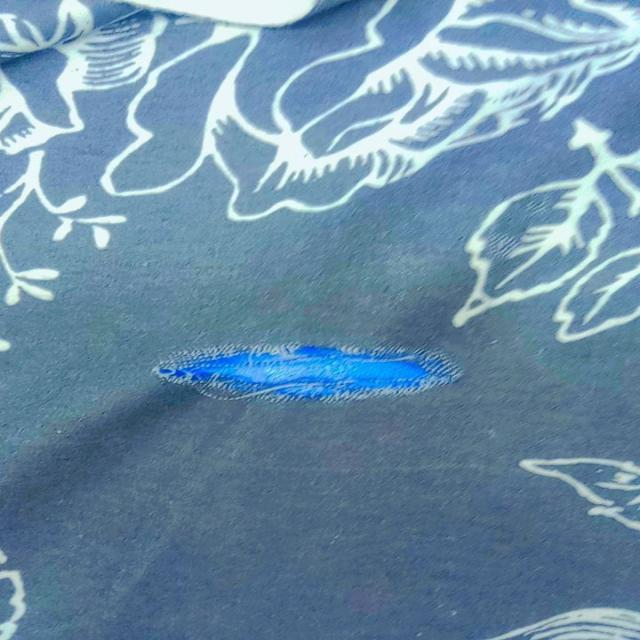cut: (140, 332, 481, 414)
